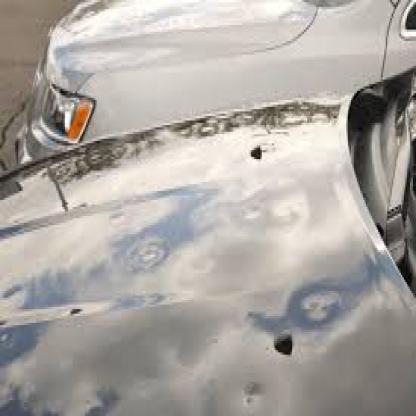dent: (102, 214, 178, 286), (291, 280, 346, 342), (268, 317, 297, 367), (236, 376, 268, 413), (251, 122, 272, 178), (76, 394, 100, 408), (65, 303, 86, 318), (73, 201, 93, 213)
